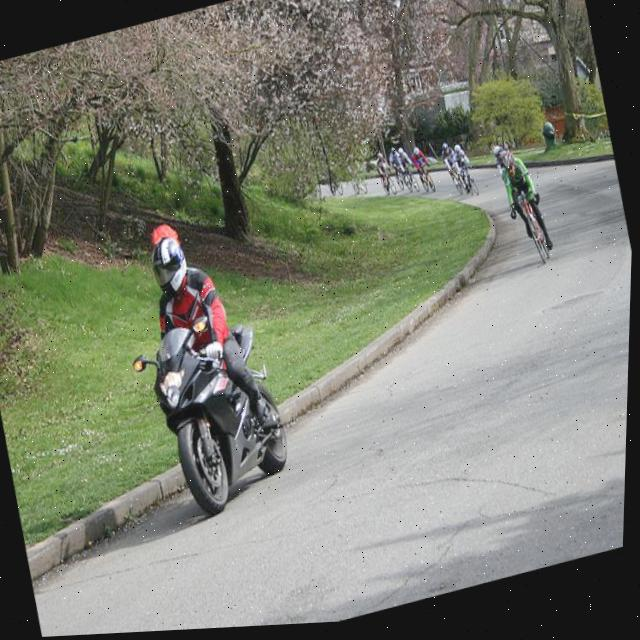motorcycle: (116, 292, 308, 537)
